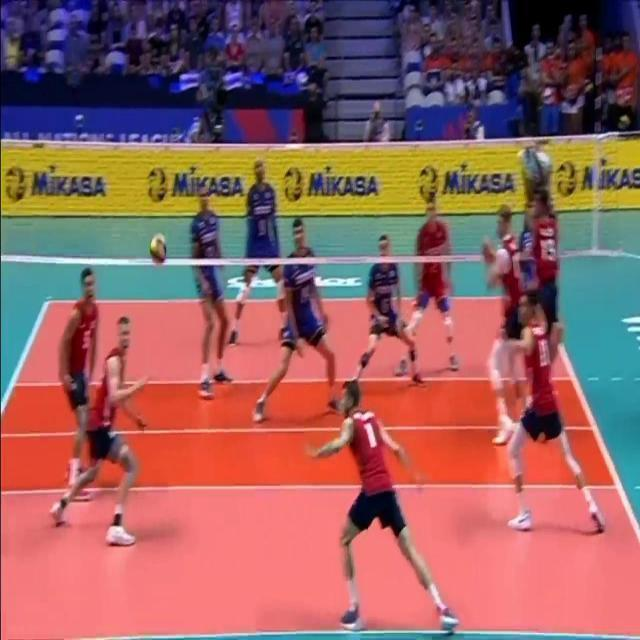volleyball: (149, 234, 168, 263)
